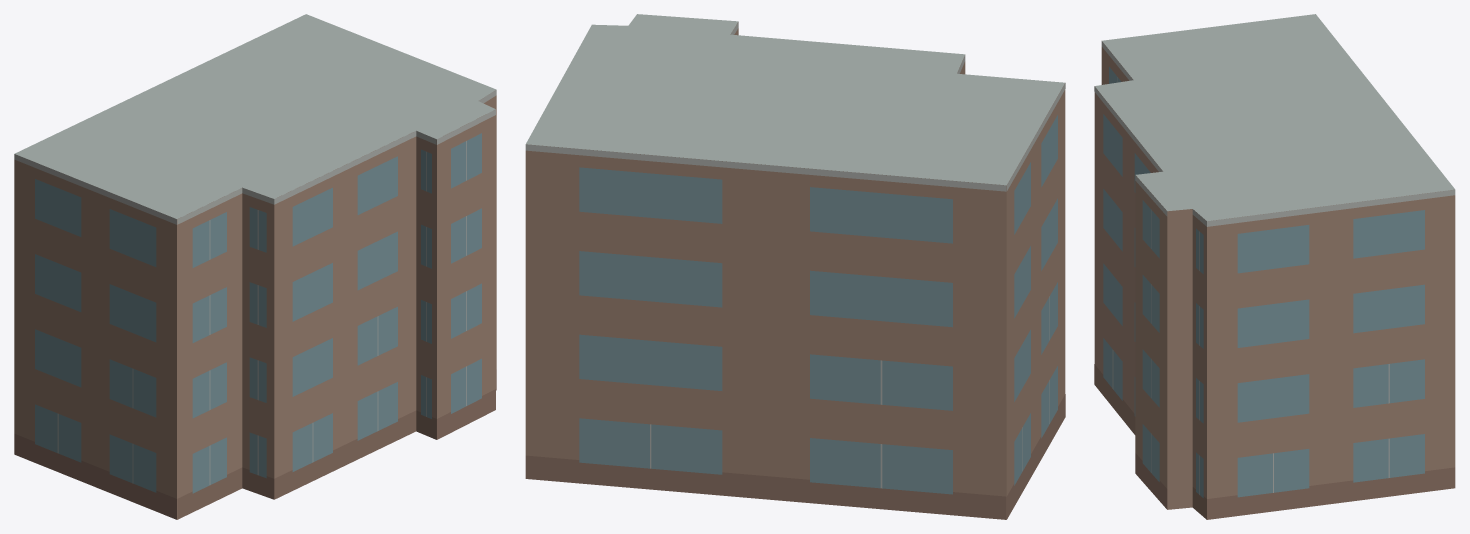
The model's file is survey-upis-33000582.glb.
The picture shows the model from 3 angles, left to right: view 1: azimuth 30°, elevation 25°; view 2: azimuth 150°, elevation 25°; view 3: azimuth 270°, elevation 25°; orthographic projection. The views are drawn at different scales.
Visible parts, largest first — view 1: survey-upis-33000582.tmp; view 2: survey-upis-33000582.tmp; view 3: survey-upis-33000582.tmp.
Part boxes in pixels (box(x1,y1,x2,y2)): survey-upis-33000582.tmp: box(14, 14, 496, 519); survey-upis-33000582.tmp: box(525, 14, 1065, 519); survey-upis-33000582.tmp: box(1094, 14, 1455, 519).
Size of the model in its own units: 19.23 by 12.91 by 14.15.
